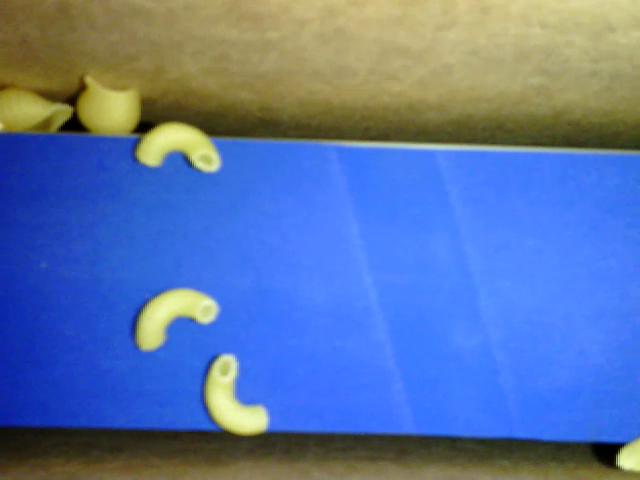elbow: (132, 286, 223, 352), (205, 353, 271, 435), (138, 120, 222, 173)
shell: (79, 70, 143, 136), (1, 85, 68, 138)
